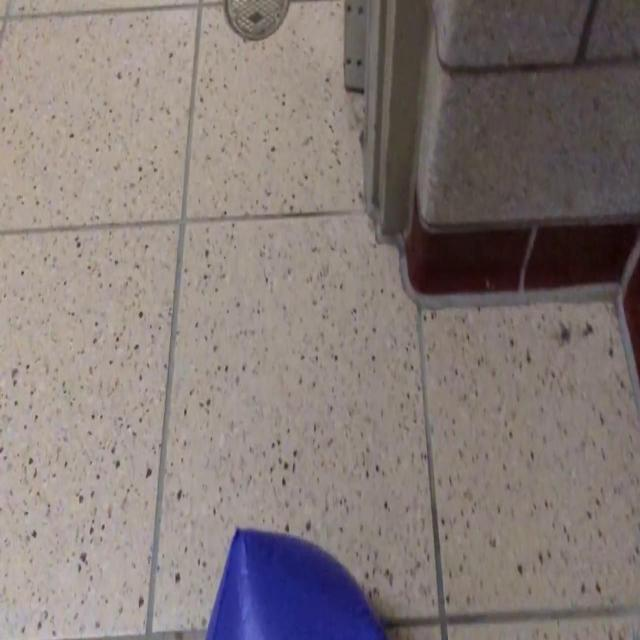frc_cube: (205, 527, 387, 640)
